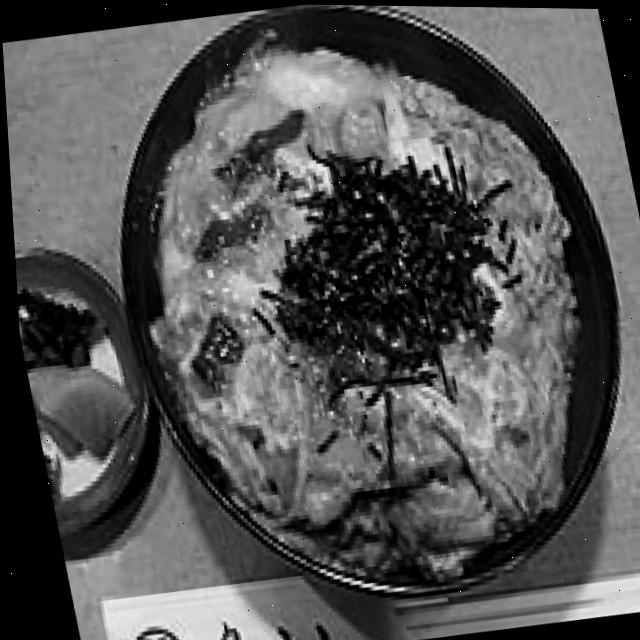米饭主食: (63, 1, 640, 638)
